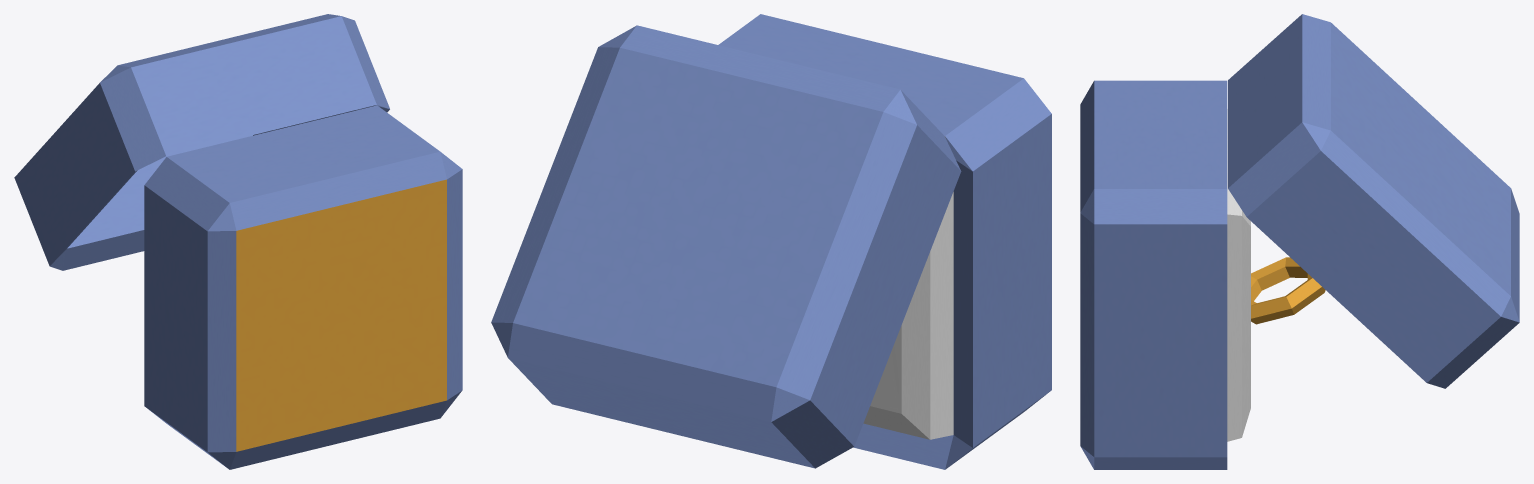
File: blue_symbol_ring.FBX
The picture shows the model from 3 angles, left to right: view 1: azimuth 30°, elevation 25°; view 2: azimuth 150°, elevation 25°; view 3: azimuth 270°, elevation 25°; orthographic projection. The views are drawn at different scales.
Visible parts, largest first — view 1: ring; view 2: ring; view 3: ring.
Part boxes in pixels (x1,y1,x2,y2): ring: [14, 14, 462, 469]; ring: [491, 14, 1051, 469]; ring: [1080, 14, 1519, 469].
Bounding box in the file's own units: 257 × 319 × 365.
